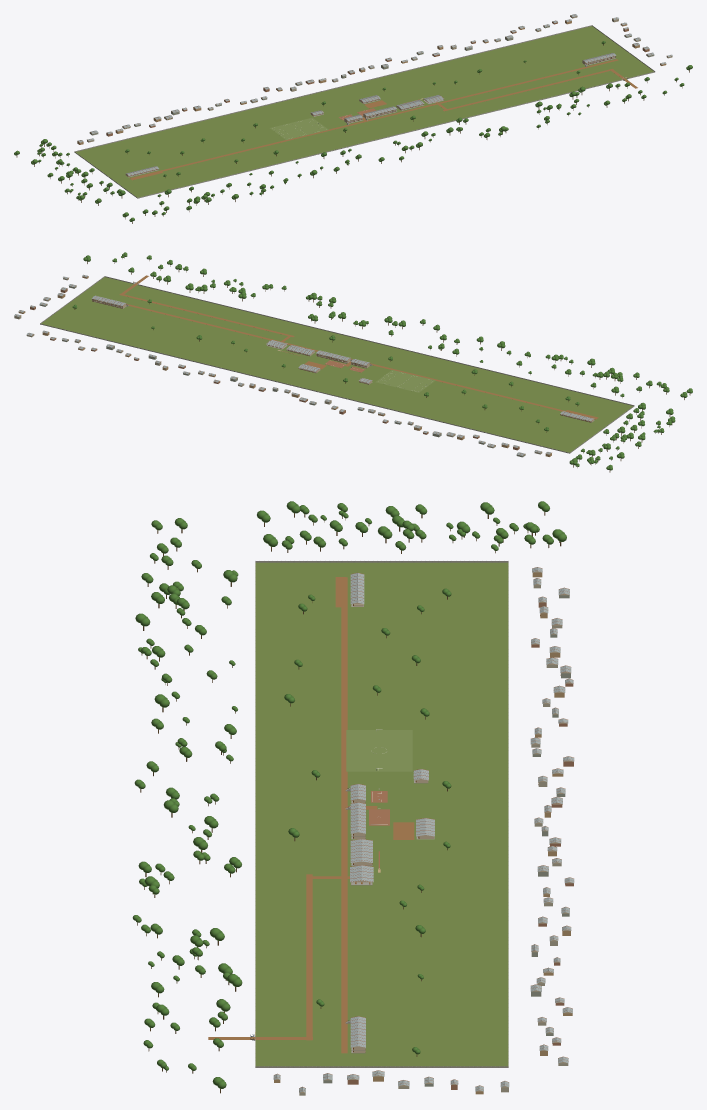
File: GBHS_Campus_Classrooms_v1.glb
3 views of the same model, one above another, from view 1: azimuth 30°, elevation 25°; view 2: azimuth 150°, elevation 25°; view 3: azimuth 270°, elevation 25° (orthographic). The views are drawn at different scales.
Parts seen in each view (by area): view 1: Earth_under_campus, Academic_red_earth_walk, Football_field, Gate_road_to_cafeteria_long; view 2: Earth_under_campus, Academic_red_earth_walk, Football_field, Gate_road_to_cafeteria_long; view 3: Earth_under_campus, Academic_red_earth_walk, Football_field, Gate_road_to_cafeteria_long.
Part boxes in pixels (x1,y1,x2,y2): Earth_under_campus: [75, 26, 653, 197]; Academic_red_earth_walk: [130, 59, 618, 178]; Football_field: [270, 117, 328, 139]; Gate_road_to_cafeteria_long: [443, 69, 613, 111]; Earth_under_campus: [41, 277, 632, 452]; Academic_red_earth_walk: [126, 304, 595, 419]; Football_field: [375, 370, 435, 392]; Gate_road_to_cafeteria_long: [119, 293, 294, 336]; Earth_under_campus: [255, 562, 508, 1066]; Academic_red_earth_walk: [341, 577, 347, 1053]; Football_field: [346, 730, 412, 771]; Gate_road_to_cafeteria_long: [306, 874, 312, 1040].
Size of what is drawn, in the model's own units: 1581 by 21.93 by 506.
